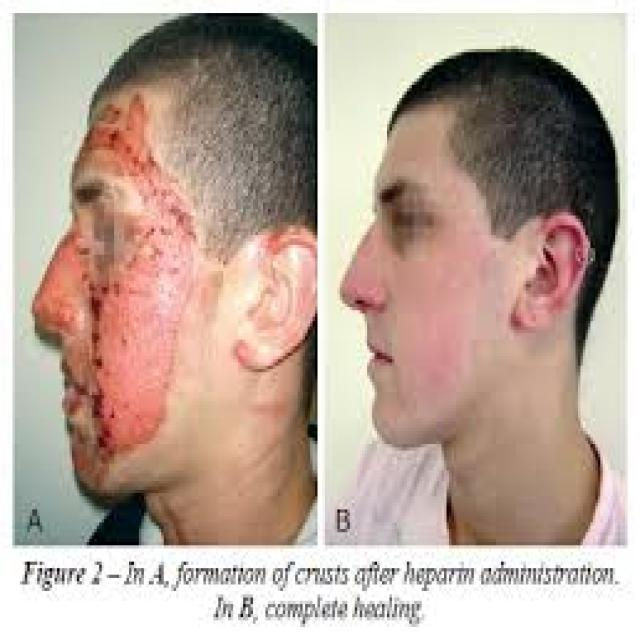burn: (32, 88, 224, 490), (345, 185, 485, 407), (234, 227, 318, 373), (507, 214, 587, 344), (243, 392, 299, 415)
